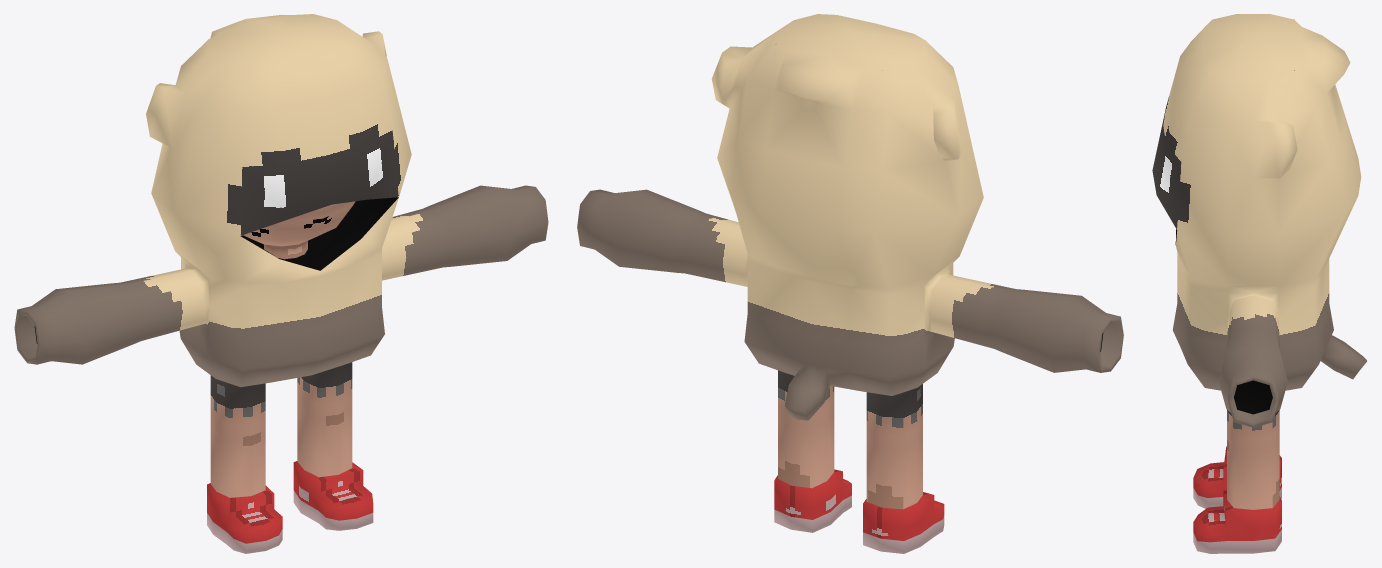
File: Huron.glb
3 renders of one model, left to right at view 1: azimuth 30°, elevation 25°; view 2: azimuth 150°, elevation 25°; view 3: azimuth 270°, elevation 25°, orthographic. The views are drawn at different scales.
Parts seen in each view (by area): view 1: Cubo; view 2: Cubo; view 3: Cubo.
Part boxes in pixels (x1,y1,x2,y2): Cubo: (14, 14, 548, 553); Cubo: (577, 14, 1123, 553); Cubo: (1152, 14, 1366, 553).
Bounding box in the file's own units: 3.85 × 3.52 × 1.41.
Materials: 1 (1 with a texture image).
